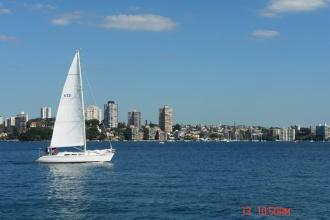fanchuan: (33, 48, 121, 165)
